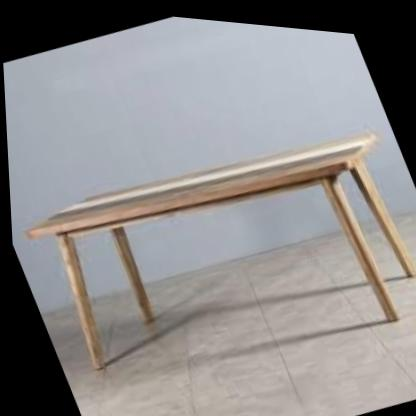Table: (6, 71, 416, 416)
